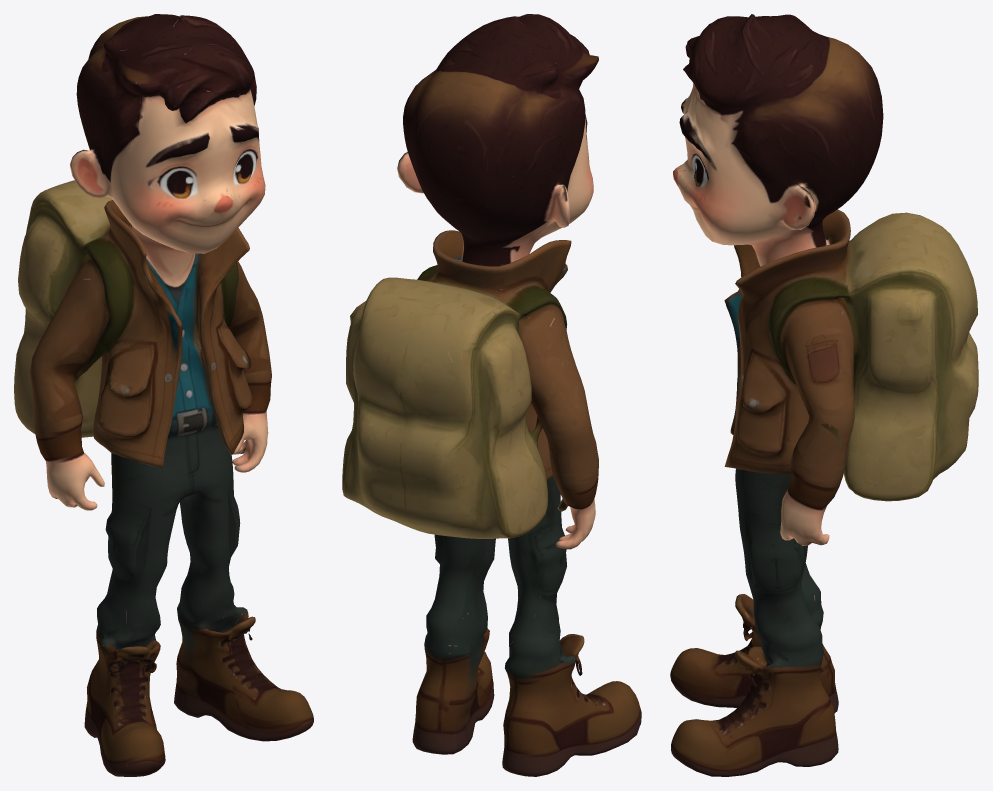
Rendered from 4-survivor-textured.glb.
The picture shows the model from 3 angles, left to right: view 1: azimuth 30°, elevation 25°; view 2: azimuth 150°, elevation 25°; view 3: azimuth 270°, elevation 25°; orthographic projection.
Size of the model in its own units: 0.6271 by 1.89 by 0.7385.
Materials: 1 (1 with a texture image).
